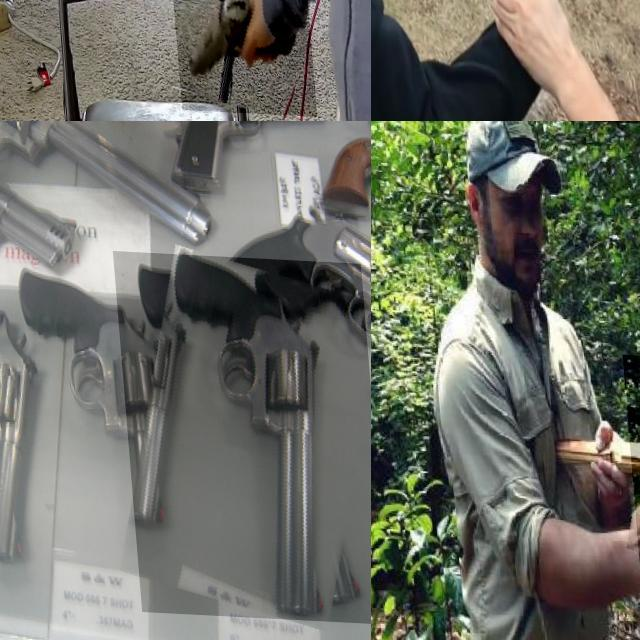-: (451, 0, 549, 108), (618, 350, 640, 561)
gun-knife-thesis - v11 Yolov5 augmented: (109, 247, 371, 618), (11, 262, 174, 553), (0, 121, 212, 234), (0, 266, 68, 567), (204, 199, 371, 307), (164, 0, 310, 113), (0, 141, 128, 266), (0, 341, 62, 589), (154, 121, 337, 189), (0, 121, 53, 223)
